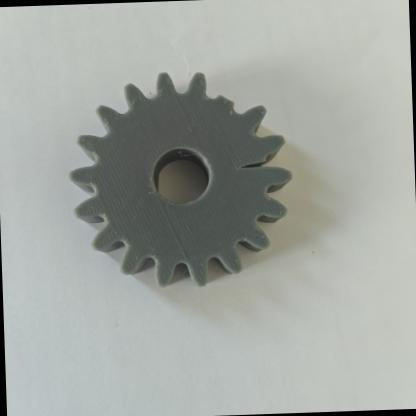defect: (200, 68, 280, 130), (222, 139, 292, 196)
gear: (43, 53, 314, 312)
